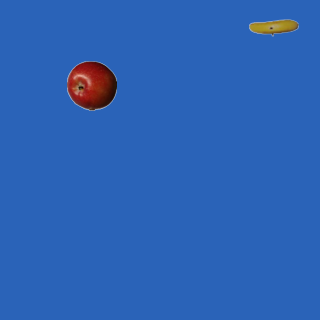Apple Braeburn: (66, 60, 116, 110)
Banana: (248, 2, 298, 52)
